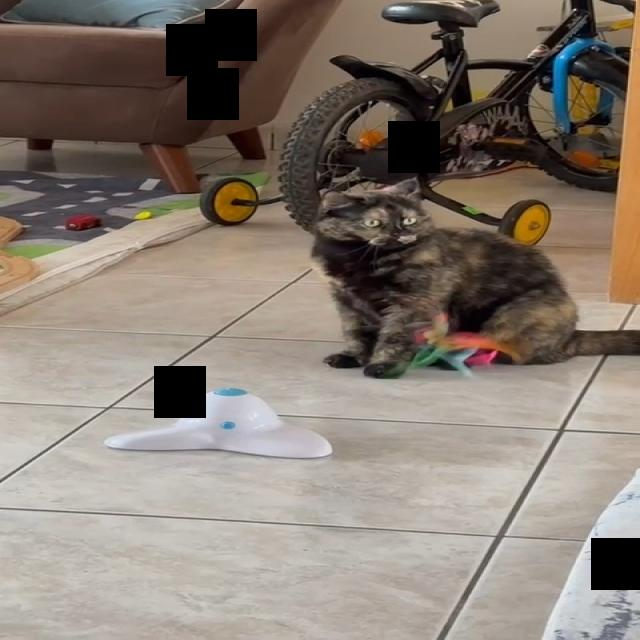authorized: (308, 176, 639, 379)
